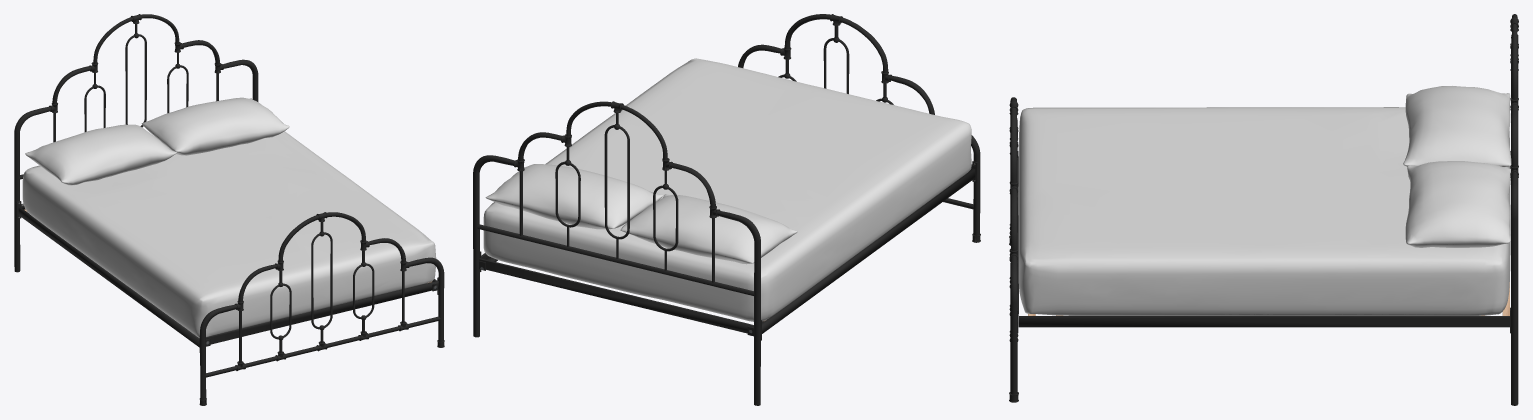
3 views of the same model, side by side, from view 1: azimuth 30°, elevation 25°; view 2: azimuth 150°, elevation 25°; view 3: azimuth 270°, elevation 25° (orthographic). The views are drawn at different scales.
Visible parts, largest first — view 1: RootNode; view 2: RootNode; view 3: RootNode.
Boxes of the visible parts, x1=… form: RootNode: x1=14, y1=14, x2=444, y2=405; RootNode: x1=473, y1=14, x2=980, y2=405; RootNode: x1=1009, y1=14, x2=1518, y2=405.
Bounding box in the file's own units: 1.63 × 1.44 × 2.18.
Materials: 1 (1 with a texture image).
